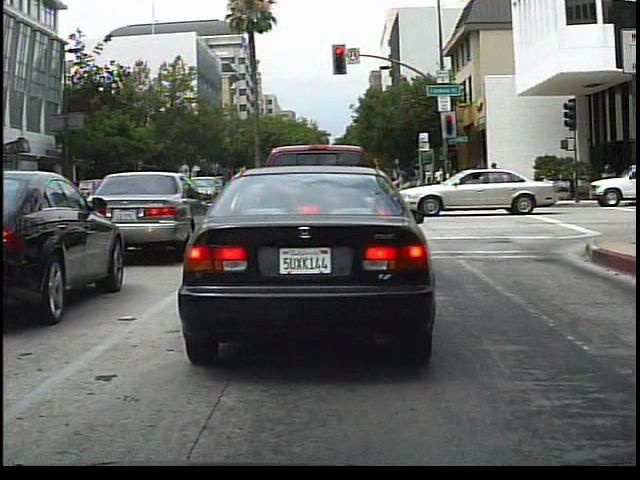person: (390, 158, 424, 211), (468, 158, 486, 199), (488, 157, 506, 198)
